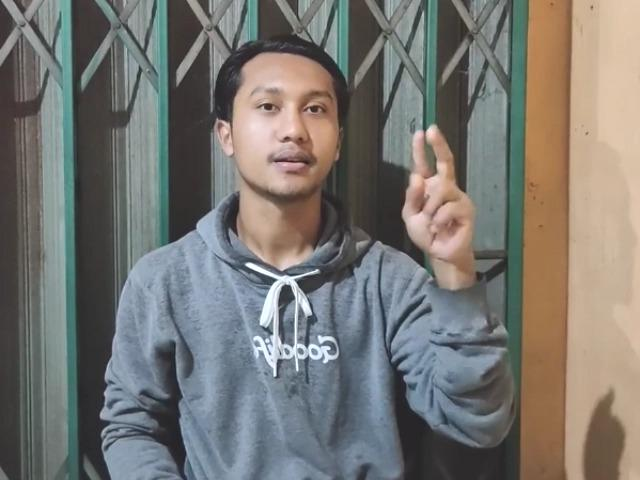U: (394, 123, 478, 263)
